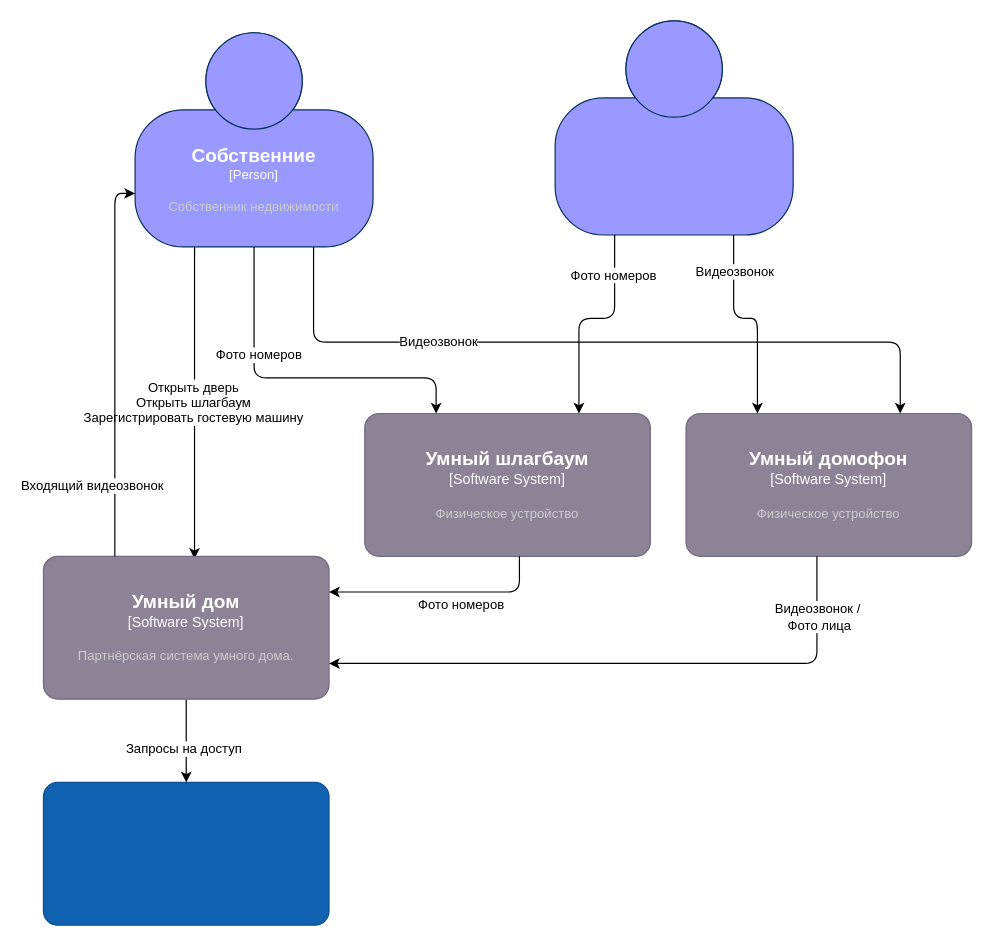
Some shapes in this 992 by 946 pixel diagram are drawn without their labels. Here are the shapes that lost their labels. From the top down, the centre of each, then its label:
At point 673,127: "Гость [Person] Не зарегистрирован в системе".
At point 185,853: "PropDevelopment [Software System] Застройщик".
